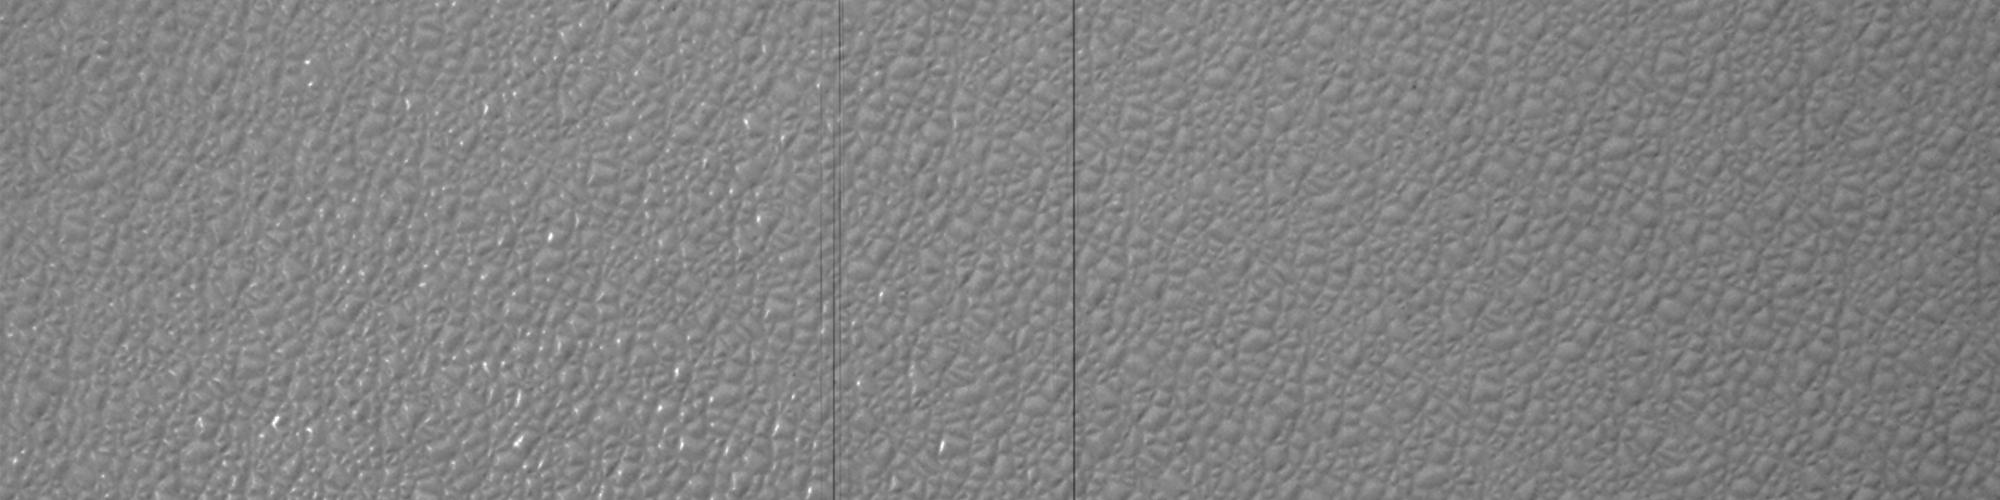DieDrag: (818, 4, 851, 499), (1059, 6, 1091, 499)
